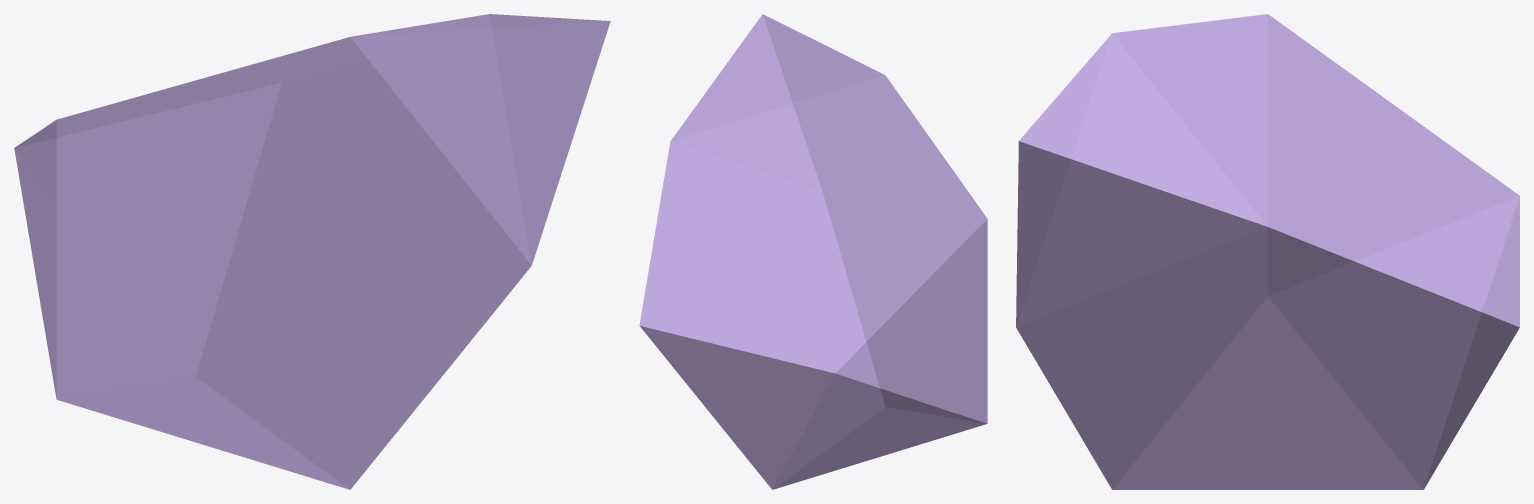
Rendered from AugmentedTridiminishedIcosahedron.obj.
The picture shows the model from 3 angles, left to right: view 1: azimuth 30°, elevation 25°; view 2: azimuth 150°, elevation 25°; view 3: azimuth 270°, elevation 25°; orthographic projection. The views are drawn at different scales.
Size of the model in its own units: 1.62 by 1.62 by 1.62.
